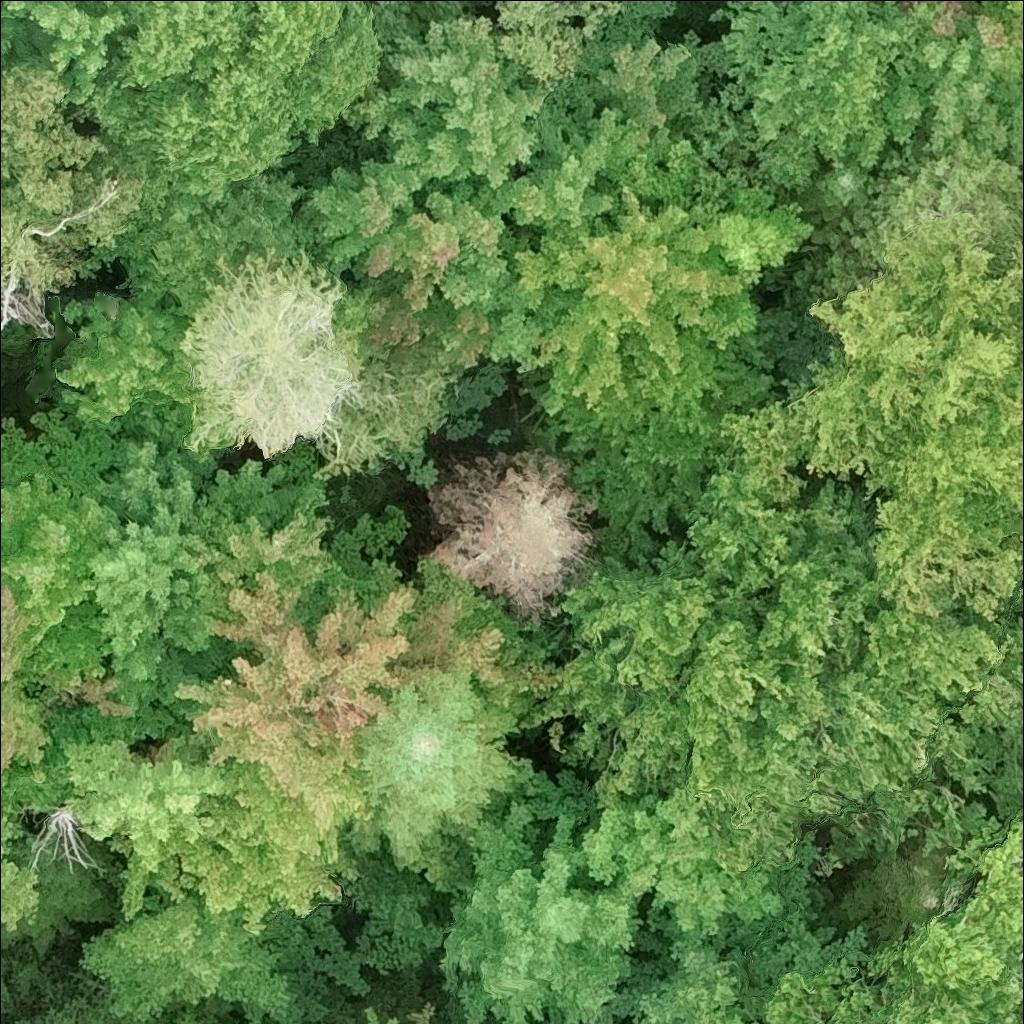crown: (537, 467, 1023, 879), (163, 556, 521, 936), (715, 217, 1023, 627), (67, 0, 388, 218), (175, 246, 462, 483), (480, 182, 758, 405), (544, 309, 783, 557), (765, 815, 1023, 1023), (419, 797, 648, 1023), (302, 154, 531, 368), (0, 469, 138, 805), (710, 0, 934, 196), (346, 652, 532, 874), (85, 437, 226, 715), (793, 135, 1023, 304), (341, 11, 551, 189), (0, 61, 154, 288), (58, 728, 234, 924), (573, 785, 791, 938), (422, 445, 595, 622), (185, 453, 358, 626), (77, 896, 308, 1023), (881, 0, 1023, 165), (548, 0, 706, 145), (525, 94, 714, 199), (71, 300, 194, 425), (841, 844, 976, 953), (0, 0, 135, 105), (489, 0, 630, 91), (489, 145, 620, 232), (705, 188, 818, 285), (0, 796, 42, 935), (800, 160, 871, 231), (1, 995, 155, 1023), (990, 747, 1023, 832), (156, 1003, 238, 1023), (0, 925, 14, 1012), (981, 0, 1023, 17), (1023, 59, 1023, 65)
